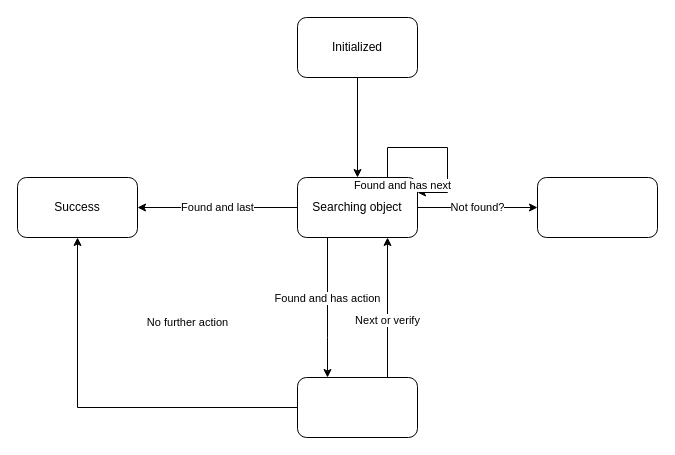
Some shapes in this 675 by 455 pixel diagram are drawn without their labels. Each missing label, with the centre of its shape:
"Fail" goes at [597,207].
"Taking action" goes at [357,407].
